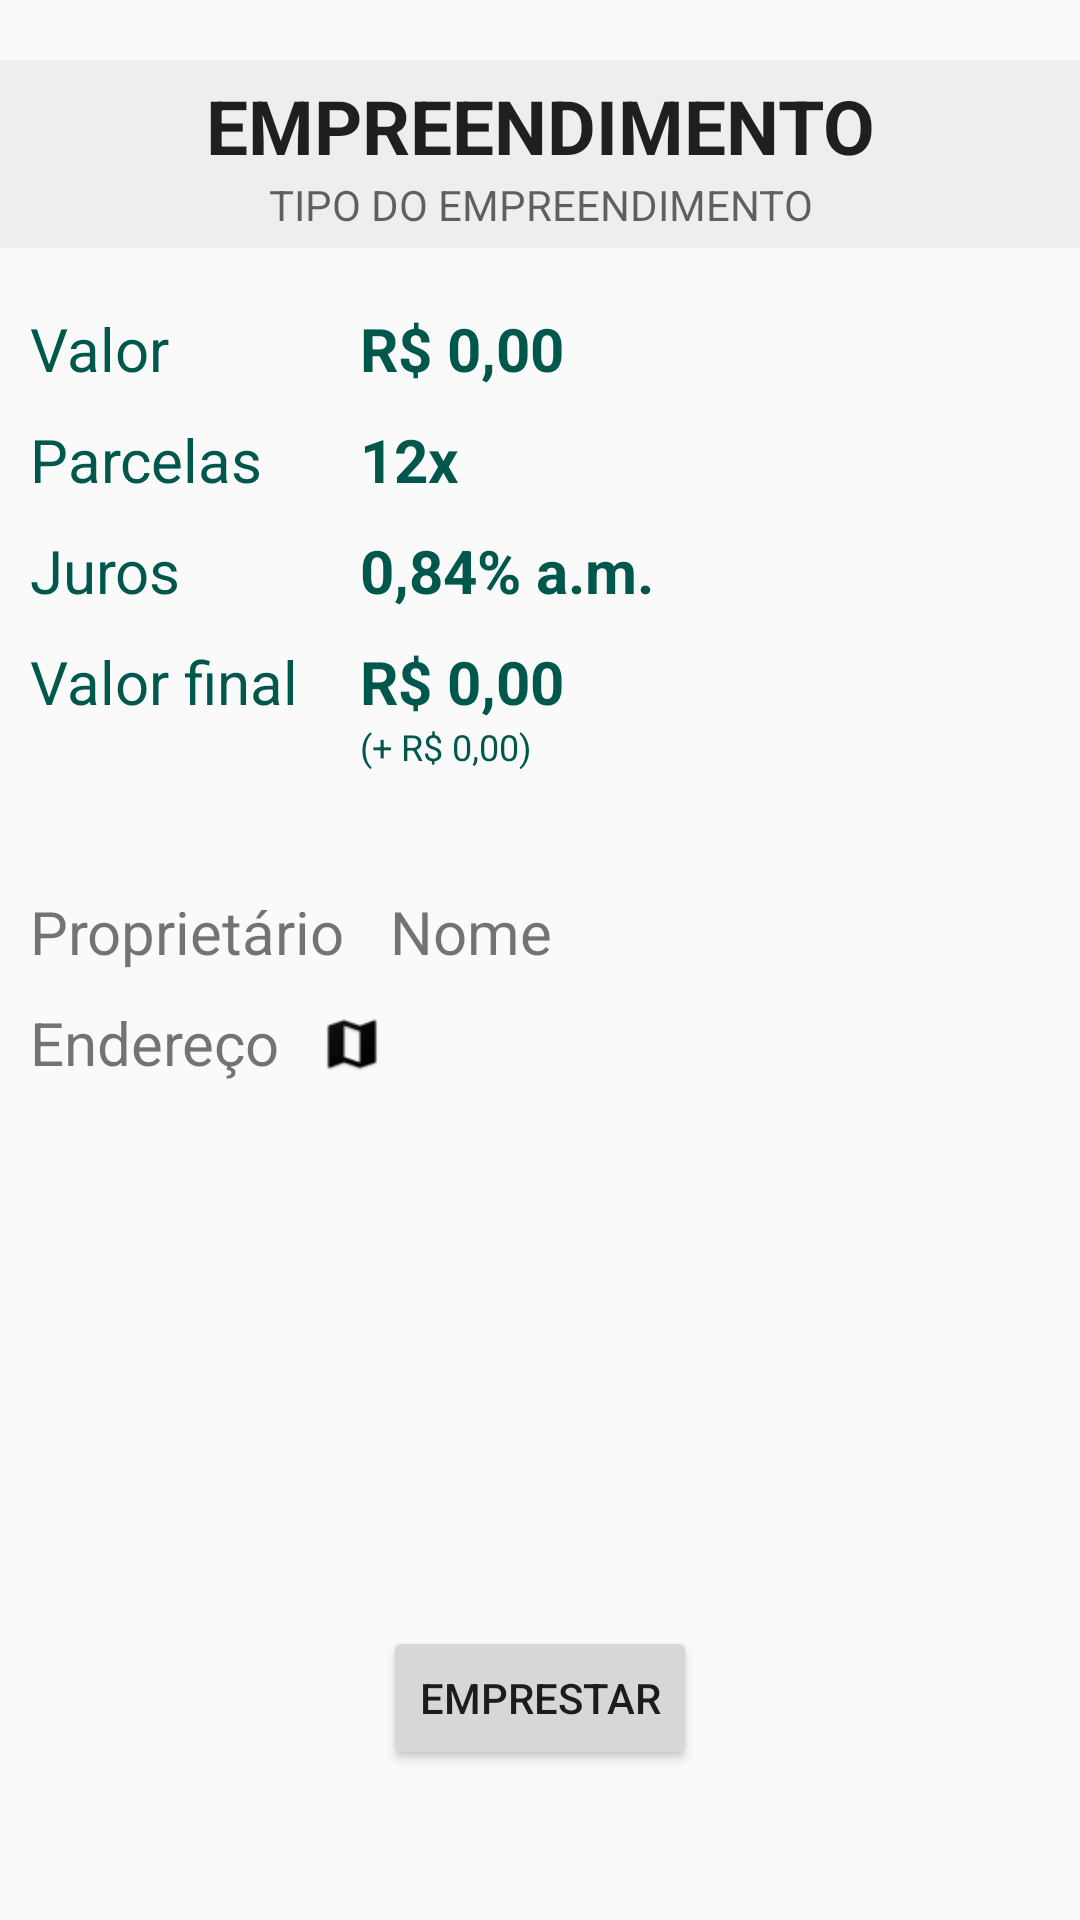

Where to tap for icons on this 1080w x 1920h app screen, as (x,y):
map: (352,1044)
